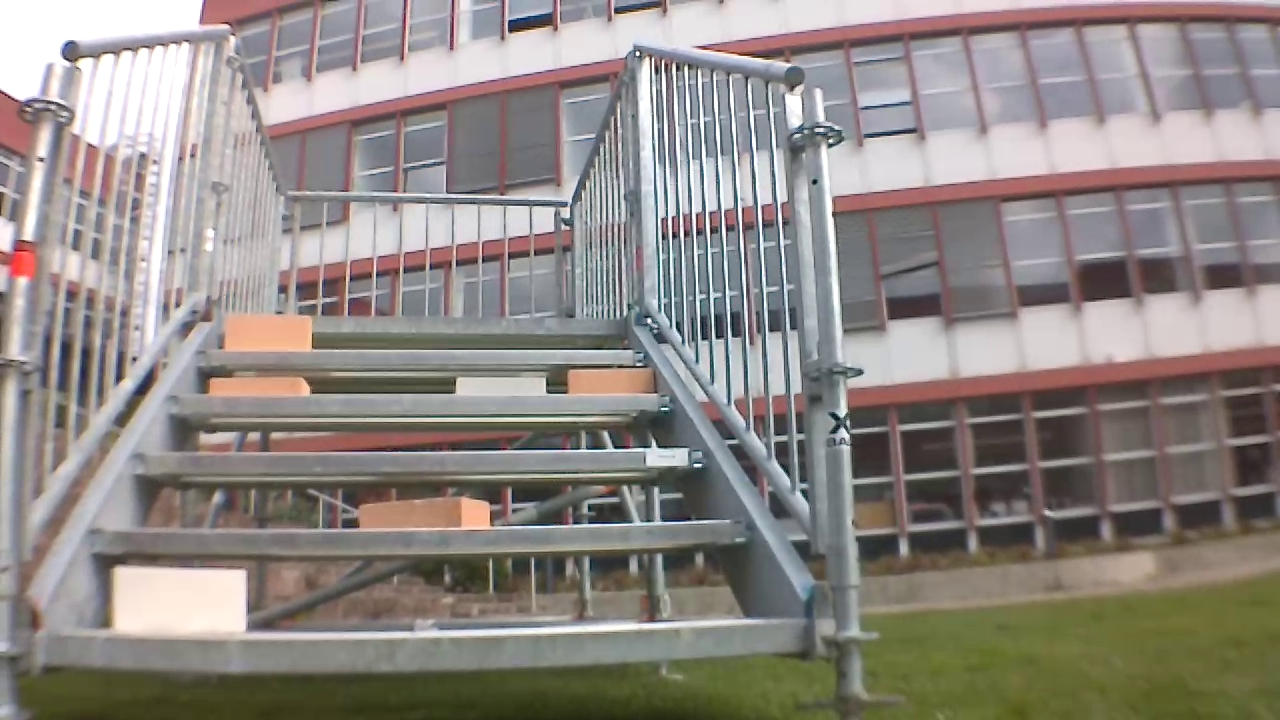brick: (106, 566, 250, 633), (350, 493, 491, 528), (216, 312, 311, 350), (211, 374, 312, 402), (564, 365, 659, 394), (451, 379, 544, 396)
edge: (37, 620, 802, 678), (88, 518, 754, 558), (132, 449, 706, 479), (167, 389, 671, 417), (193, 349, 646, 371), (222, 318, 626, 334)
stairs: (5, 0, 859, 692)
steps: (32, 310, 821, 684)
